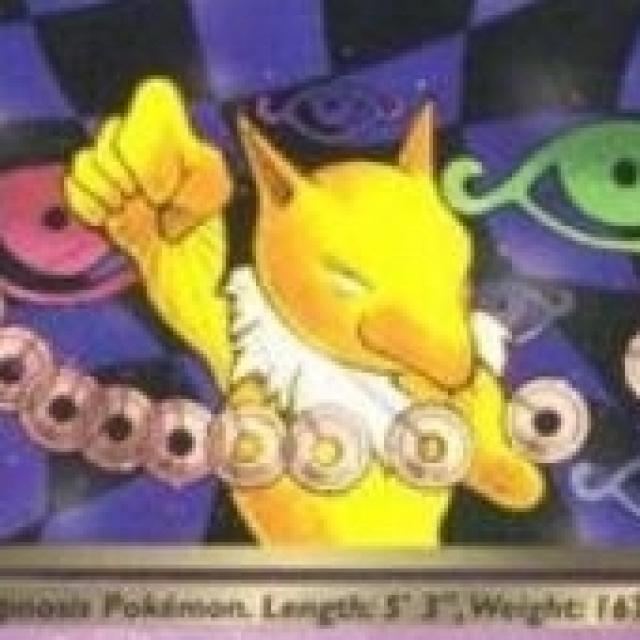Hypno: (73, 71, 499, 558)
